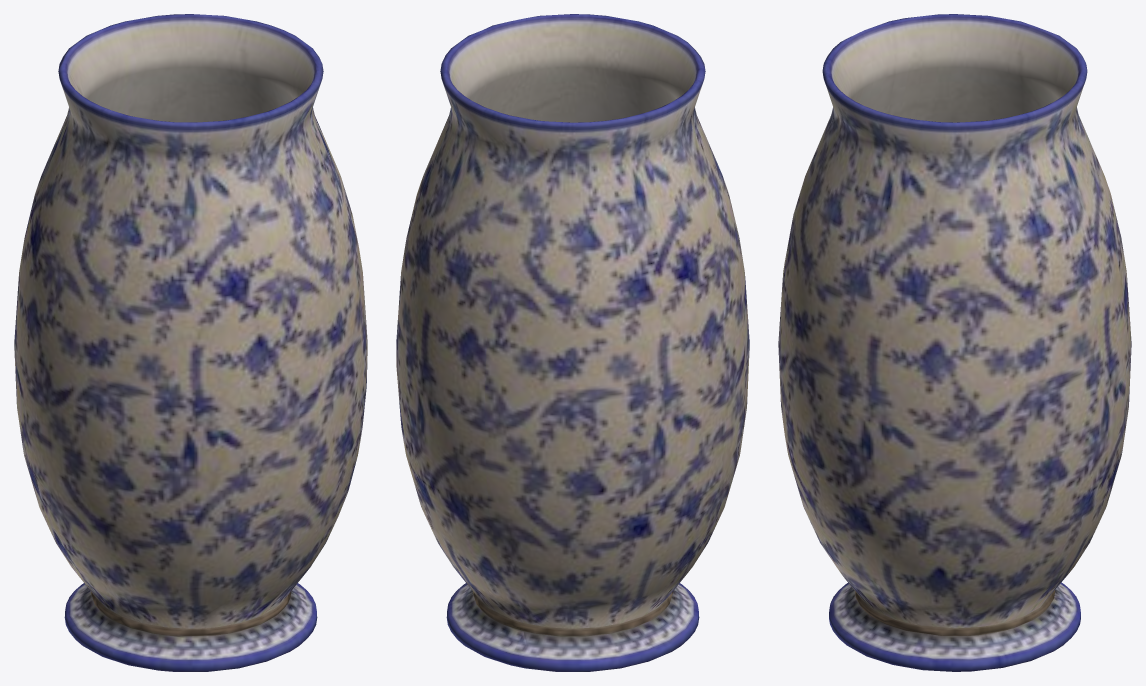
The model's file is vase.glb.
3 views of the same model, side by side, from view 1: azimuth 30°, elevation 25°; view 2: azimuth 150°, elevation 25°; view 3: azimuth 270°, elevation 25° (orthographic).
Parts seen in each view (by area): view 1: antique_ceramic_vase_01; view 2: antique_ceramic_vase_01; view 3: antique_ceramic_vase_01.
Part boxes in pixels (left/top/right/bottom): antique_ceramic_vase_01: left=14, top=14, right=367, bottom=671; antique_ceramic_vase_01: left=396, top=14, right=749, bottom=671; antique_ceramic_vase_01: left=778, top=14, right=1131, bottom=671.
Size of the model in its own units: 0.255 by 0.4396 by 0.255.
Materials: 1 (1 with a texture image).
